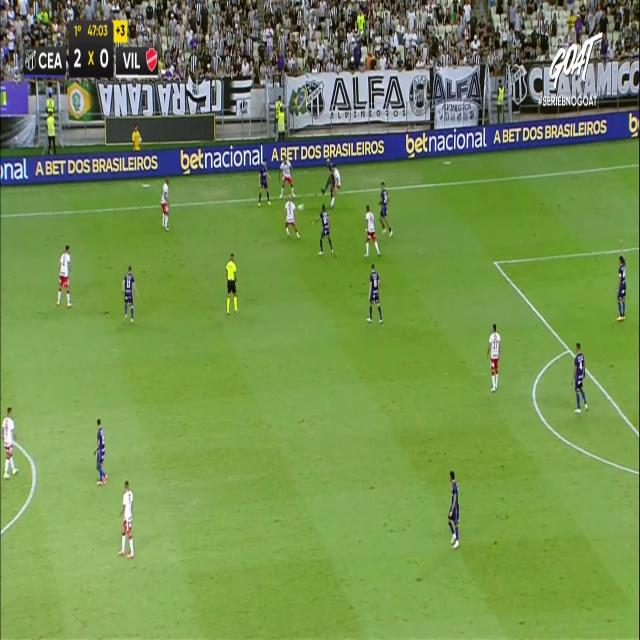ball: (299, 202, 303, 210)
player: (118, 480, 135, 557), (2, 406, 18, 479), (312, 203, 334, 255), (572, 342, 588, 413), (366, 262, 383, 323), (56, 244, 72, 308), (122, 265, 139, 323), (321, 159, 341, 208), (486, 323, 500, 391), (448, 470, 460, 549), (93, 418, 107, 485), (364, 203, 381, 257), (377, 181, 393, 237), (278, 151, 296, 198), (257, 157, 271, 207), (616, 254, 626, 320), (330, 161, 343, 211), (285, 195, 300, 238), (160, 176, 170, 230)
referee: (225, 253, 239, 315)
